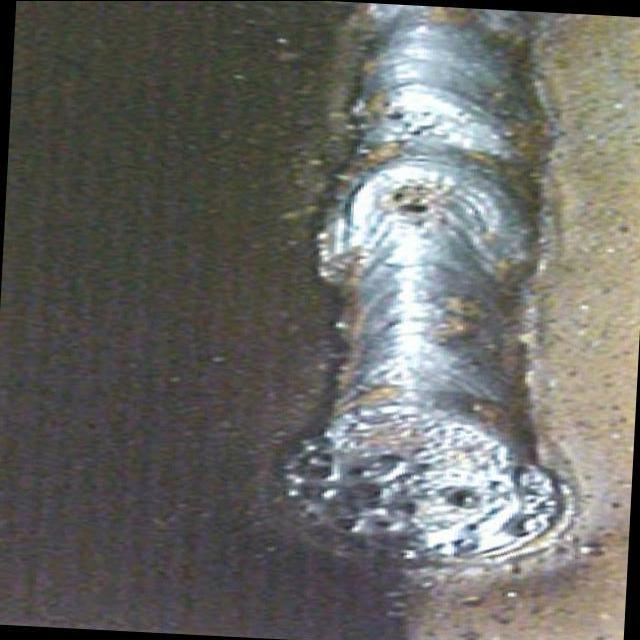defect: (288, 437, 483, 537), (367, 103, 442, 144), (384, 189, 443, 217)
